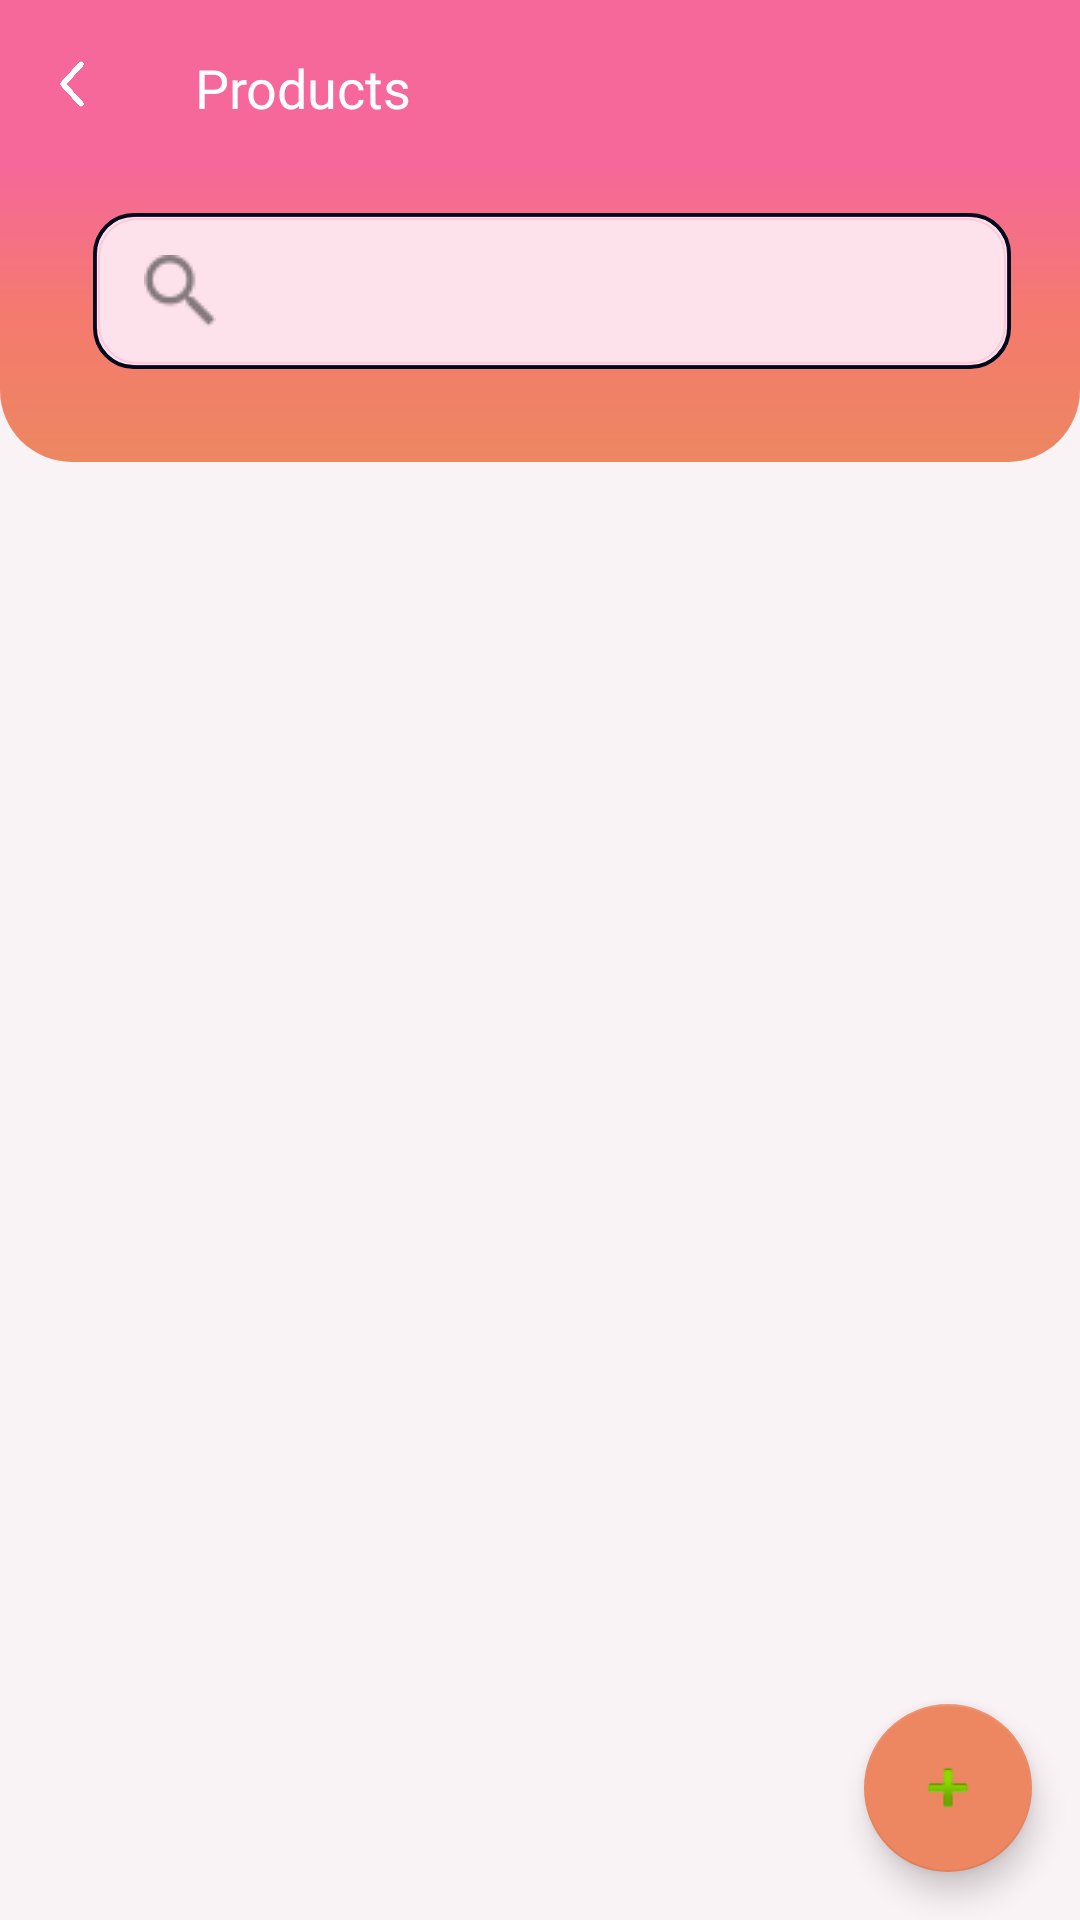

Screen size 1080×1920. Icon name, then its box in pixels as BBox(x1, y1, x2, y2):
add: BBox(864, 1704, 1032, 1872)
backbutton: BBox(60, 61, 84, 107)
